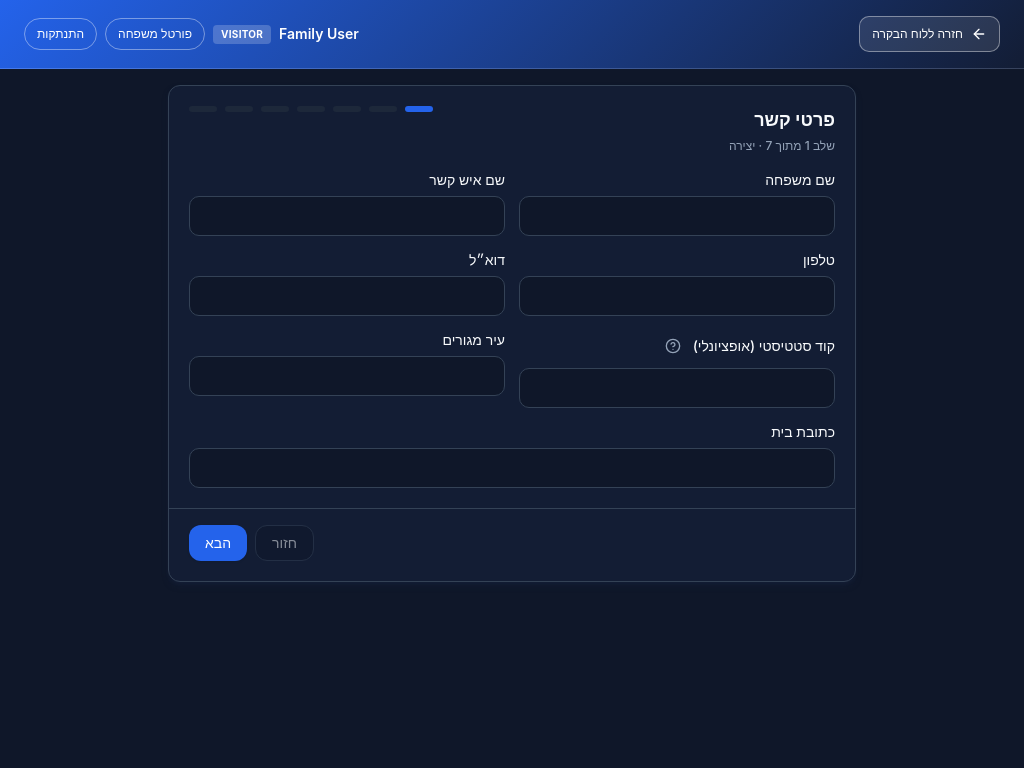
Test: FamilyEvacueeWizard integration › blocks progression when step 1 contact fields are invalid
Expected: the text "פרטי קשר" is shown, [754,109,835,130]
Click the button "הבא".
click(218, 543)  # box [189,525,247,561]
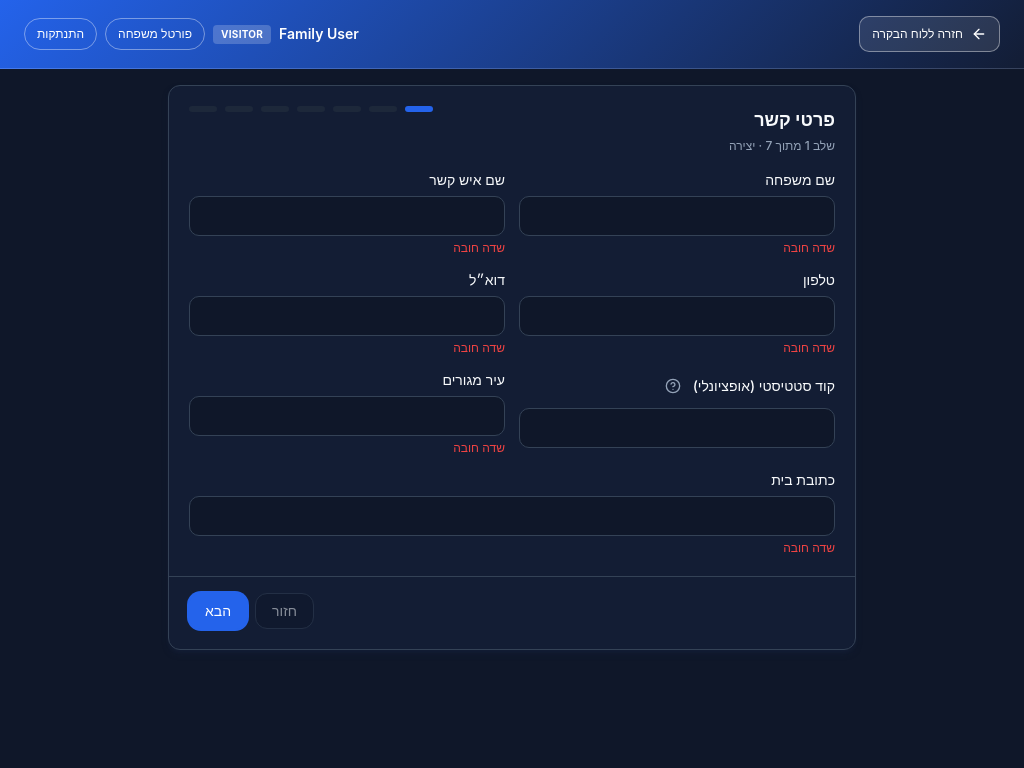
Expected: the text "פרטי קשר" is shown, [754,109,835,130]
Result: the text "שדה חובה" below "שם משפחה" is shown at [783,240,835,255]
